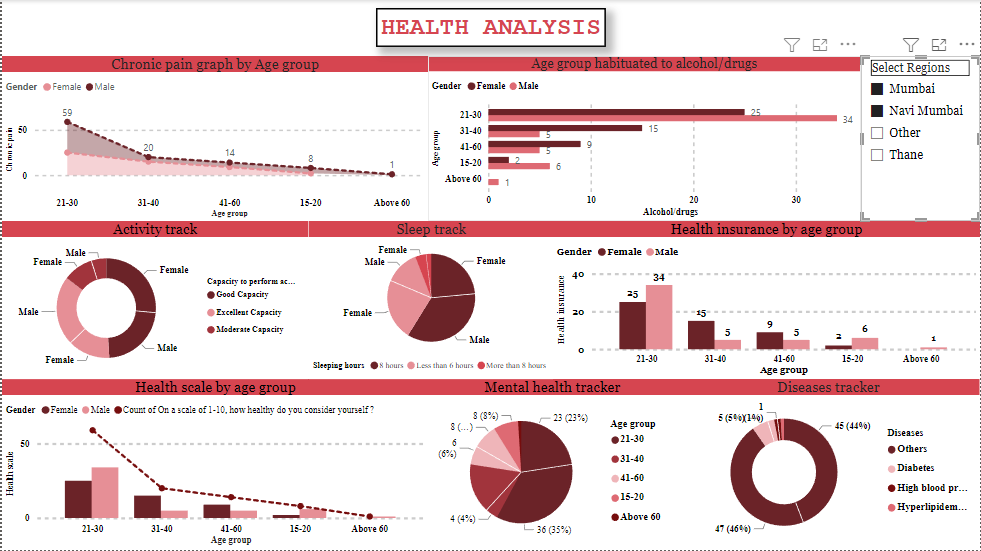

The dashboard page shown, as its layout file describes it:
{"tool":"powerbi","page":{"name":"Page 1","canvas":[1280,720],"ordinal":0},"visuals":[{"type":"clusteredColumnChart","title":"Health insurance by age group","fields":{"Series":["Health Analysis.Gender"],"Category":["Health Analysis.Age group"],"Y":["CountNonNull(Health Analysis.Do you have a health insurance ? )"]},"box":[721.3,289.5,558.7,206.6],"z":0},{"type":"slicer","fields":{"Values":["Health Analysis.Select your region of residence"]},"box":[1124.6,73.9,155.1,215.9],"z":1000},{"type":"lineClusteredColumnComboChart","title":"Health scale by age group","fields":{"Category":["Health Analysis.Age group"],"Series":["Health Analysis.Gender"],"Y":["CountNonNull(Health Analysis.On a scale of 1-10, how healthy do you consider yourself ?)"],"Y2":["CountNonNull(Health Analysis.On a scale of 1-10, how healthy do you consider yourself ?)"]},"box":[0,496.1,558.7,223.5],"z":2000},{"type":"stackedAreaChart","title":"Chronic pain graph by Age group ","fields":{"Category":["Health Analysis.Age group"],"Y":["CountNonNull(Health Analysis.Do you experience any chronic pain ?)"],"Series":["Health Analysis.Gender"]},"box":[0,73.4,558.3,216.1],"z":3000},{"type":"donutChart","title":"Activity track","fields":{"Category":["Health Analysis.In your opinion, at what capacity can you perform everyday activities ? "],"Series":["Health Analysis.Gender"],"Y":["CountNonNull(Health Analysis.Gender)"]},"box":[0,289.5,401.3,206.6],"z":4000},{"type":"clusteredBarChart","title":"Age group  habituated to alcohol/drugs","fields":{"Y":["CountNonNull(Health Analysis.Are you habituated to alcohol/drugs ?)"],"Series":["Health Analysis.Gender"],"Category":["Health Analysis.Age group"]},"box":[558.3,73.4,566.6,216.1],"z":5000},{"type":"pieChart","title":"Mental health tracker","fields":{"Category":["Health Analysis.Age group"],"Y":["CountNonNull(Health Analysis.Does your mental well being has an affect on your physical health ?)"],"Series":["Health Analysis.Does your mental well being has an affect on your physical health ?"]},"box":[558.3,495.9,325.5,223],"z":6000},{"type":"donutChart","title":"Diseases tracker","fields":{"Series":["Health Analysis.Gender"],"Category":["Health Analysis.Do you have any hereditary conditions/ diseases ?"],"Y":["CountNonNull(Health Analysis.Do you have any hereditary conditions/ diseases ?)"]},"box":[883.8,495.9,396.2,223],"z":7000},{"type":"pieChart","title":"Sleep track","fields":{"Category":["Health Analysis.How much hours of sleep do you get on a daily basis ? "],"Y":["CountNonNull(Health Analysis.Gender)"],"Series":["Health Analysis.Gender"]},"box":[401.3,289.5,320,206.6],"z":8000},{"type":"shape","box":[489,11.1,300.6,51.3],"z":9000}]}

Visuals, with their boxes in screenshot pixels (x1, y1, x2, y2), scaled from the page's 1280x720 canvas onto the 981x551 screenshot:
"Health insurance by age group" clusteredColumnChart: detection(553, 222, 980, 380)
slicer - Health Analysis.Select your region of residence: detection(862, 57, 980, 222)
"Health scale by age group" lineClusteredColumnComboChart: detection(0, 380, 428, 550)
"Chronic pain graph by Age group " stackedAreaChart: detection(0, 56, 428, 222)
"Activity track" donutChart: detection(0, 222, 308, 380)
"Age group  habituated to alcohol/drugs" clusteredBarChart: detection(428, 56, 862, 222)
"Mental health tracker" pieChart: detection(428, 380, 677, 550)
"Diseases tracker" donutChart: detection(677, 380, 980, 550)
"Sleep track" pieChart: detection(308, 222, 553, 380)
shape: detection(375, 8, 605, 48)
